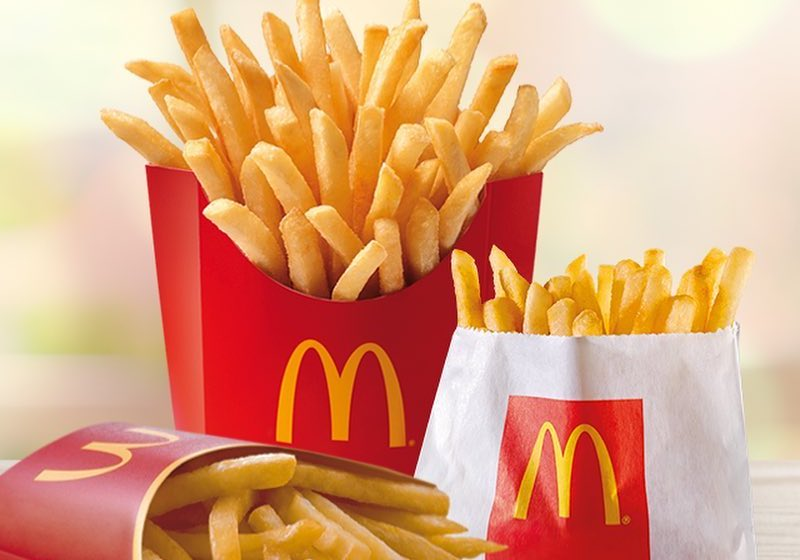mcdonalds: (270, 324, 418, 458), (511, 415, 633, 539)
